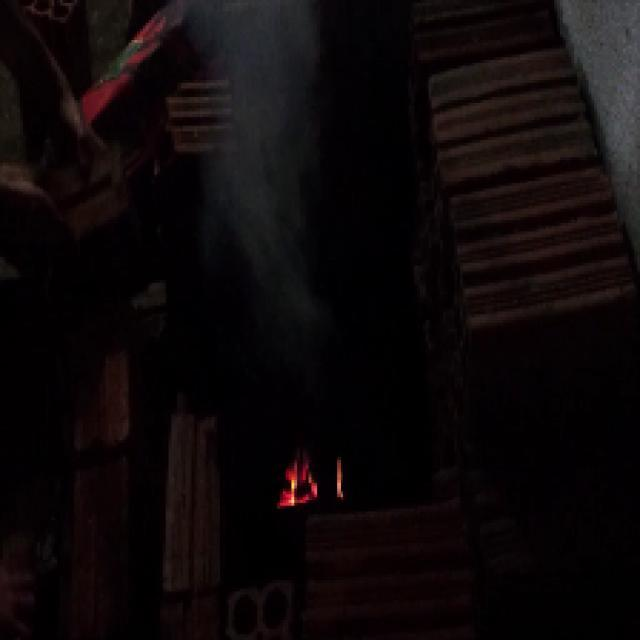Fire: (278, 445, 346, 503)
Smoke: (206, 6, 334, 346)
